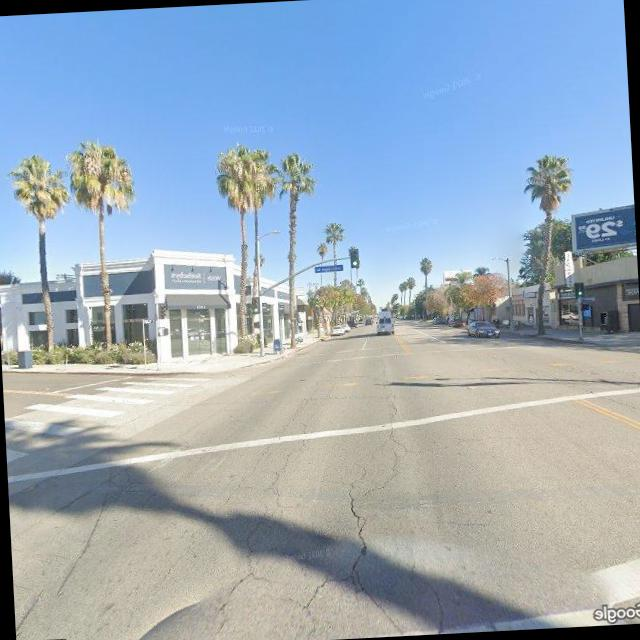crack: (168, 389, 442, 640)
